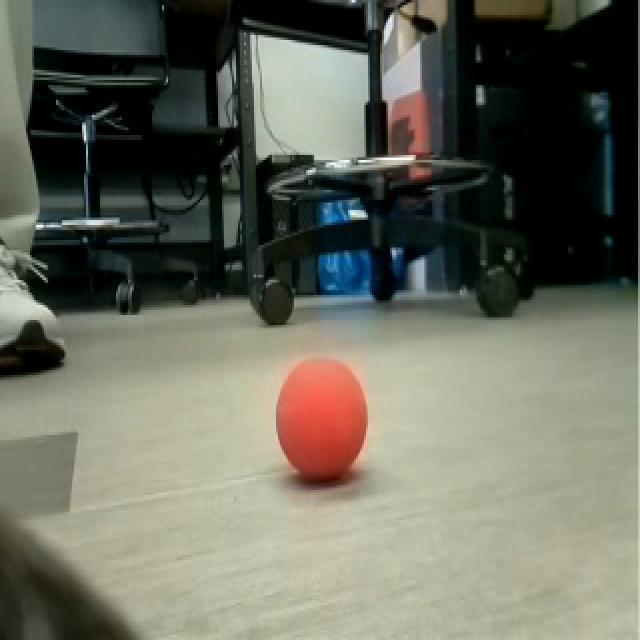ping-pong-ball: (274, 358, 364, 482)
